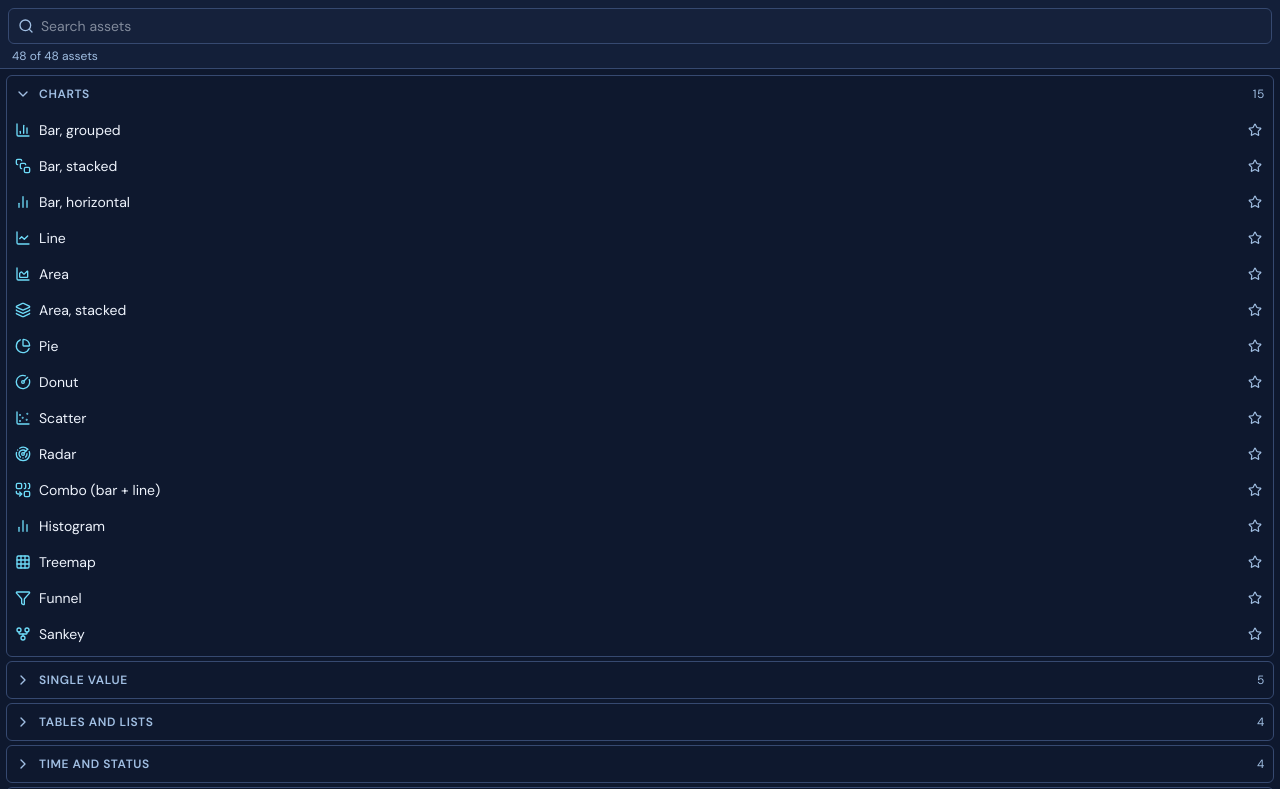
Test case: AssetBar › adds with Enter and shows a favourites row
Click the button "Single value 5".
click(83, 680)  # box [7,662,1273,698]
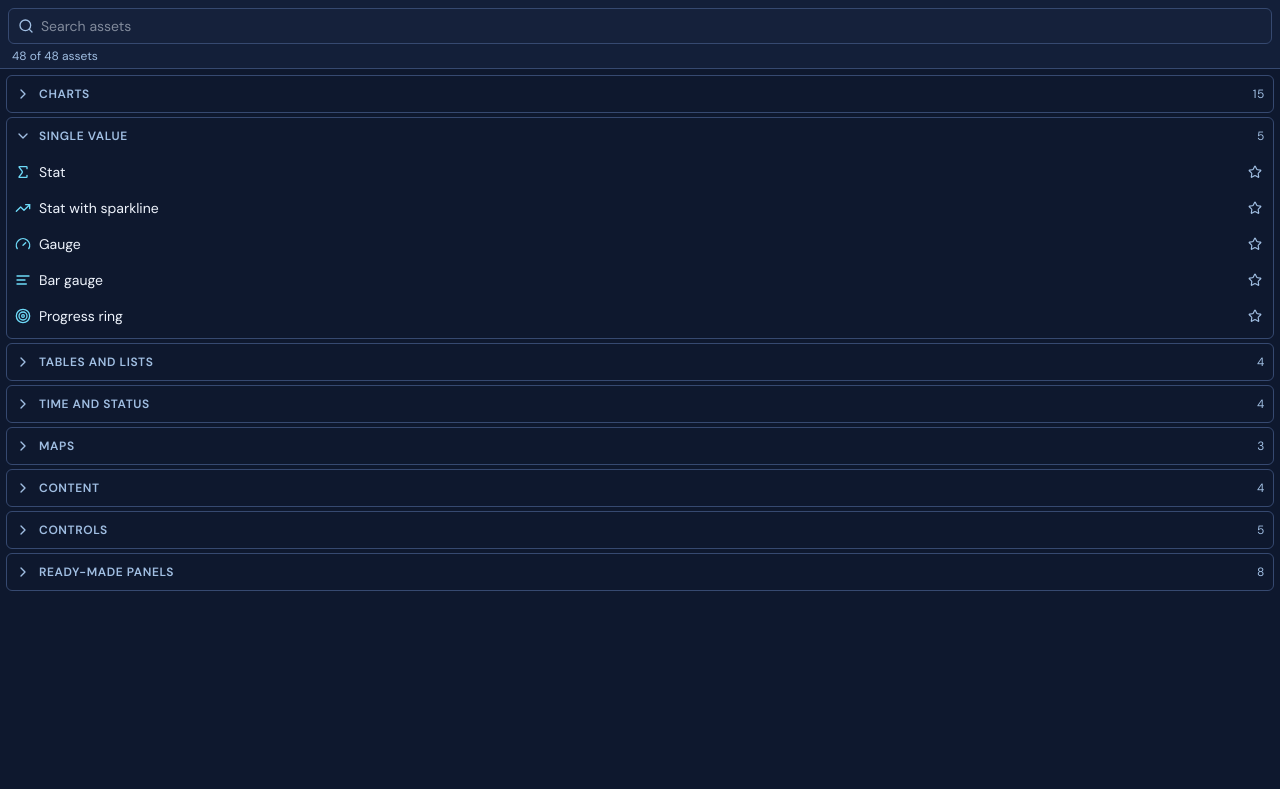
Press Enter in the button "Stat", box [7,154,1237,190]
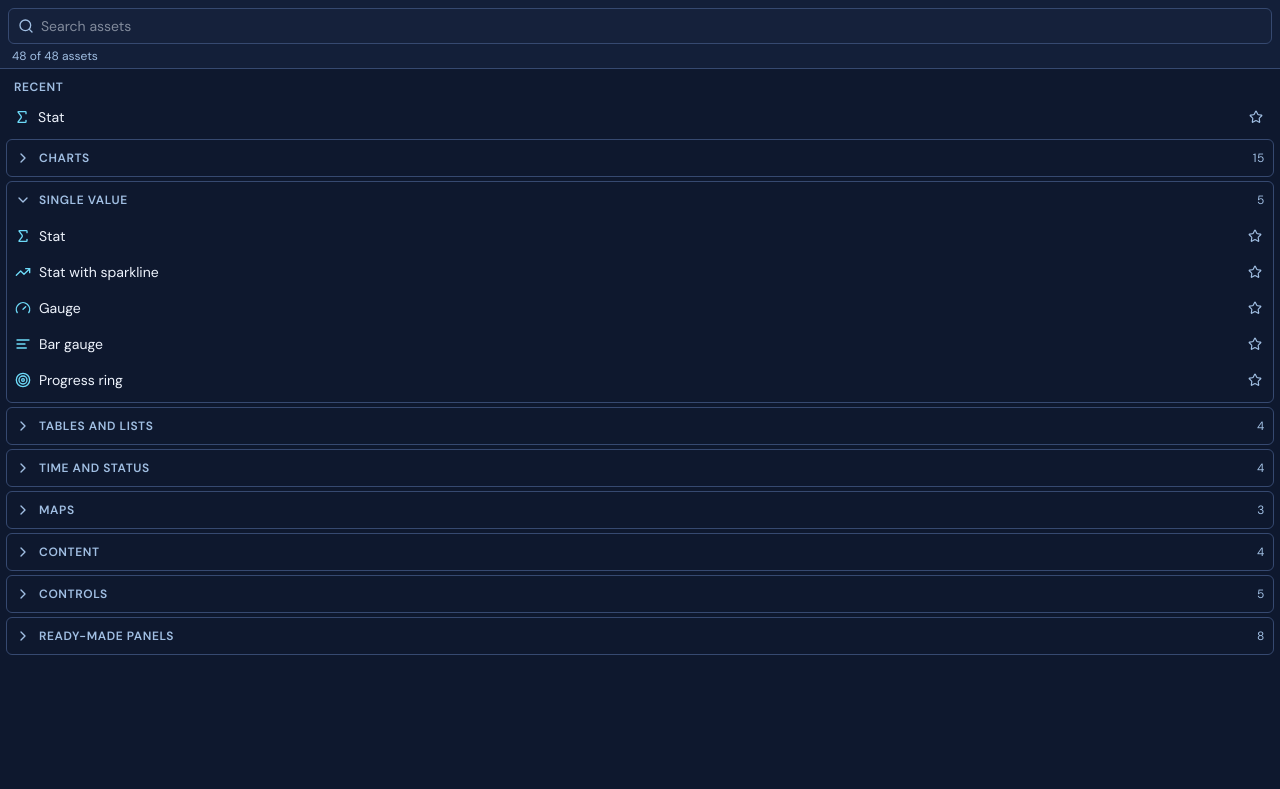
Click the 1st button named "Add Stat to favourites".
click(1256, 117)  # box [1242,103,1270,131]
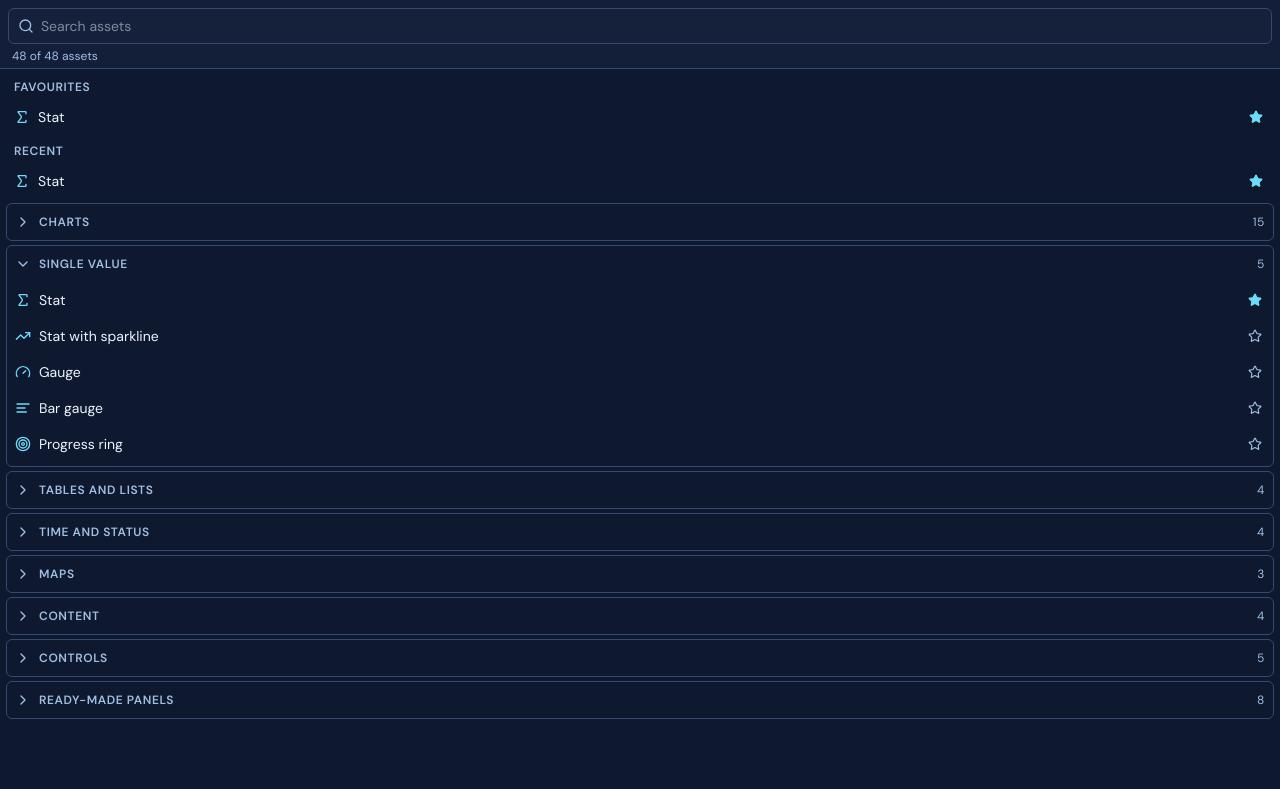
Check: the heading "Favourites" is shown, box [14,79,90,95]
